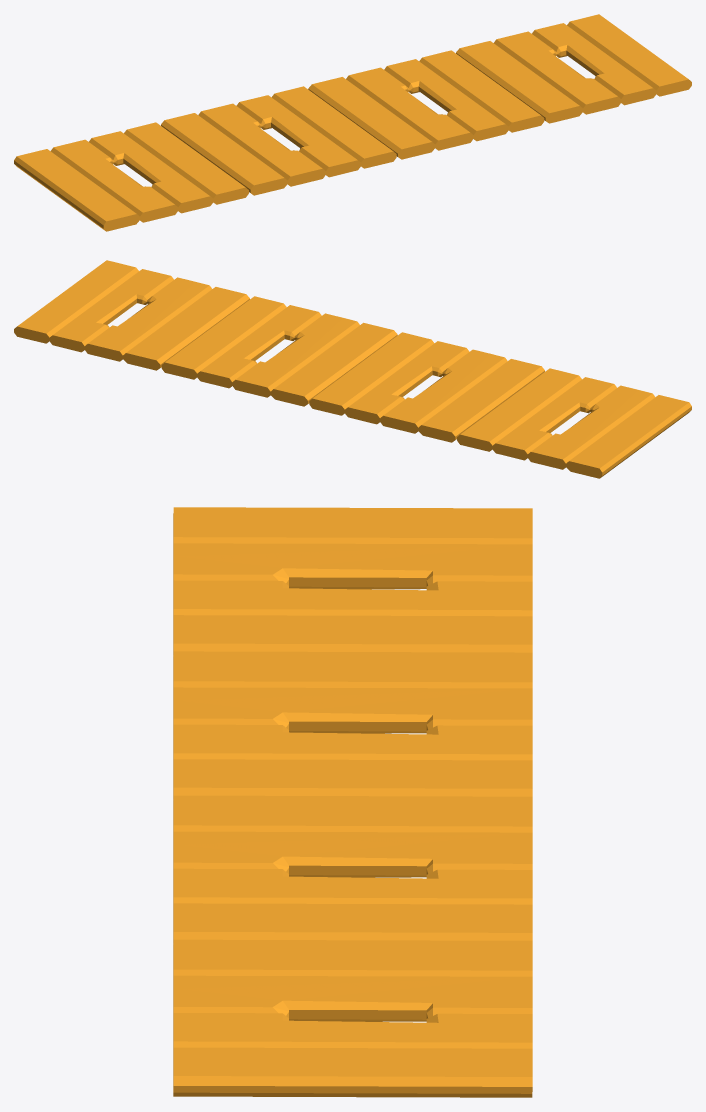
The model's file is SM_Machicolations_Shutter_A_Fantasy.fbx.
3 renders of one model, top to bottom at view 1: azimuth 30°, elevation 25°; view 2: azimuth 150°, elevation 25°; view 3: azimuth 270°, elevation 25°, orthographic. The views are drawn at different scales.
Parts seen in each view (by area): view 1: SM_Machicolations_Shutter_A_Fantasy; view 2: SM_Machicolations_Shutter_A_Fantasy; view 3: SM_Machicolations_Shutter_A_Fantasy.
Part boxes in pixels (<box>): SM_Machicolations_Shutter_A_Fantasy: <box>14,14,691,231</box>; SM_Machicolations_Shutter_A_Fantasy: <box>14,260,691,478</box>; SM_Machicolations_Shutter_A_Fantasy: <box>173,507,532,1097</box>.
Bounding box in the file's own units: 2.99 × 0.0532 × 0.7897.
